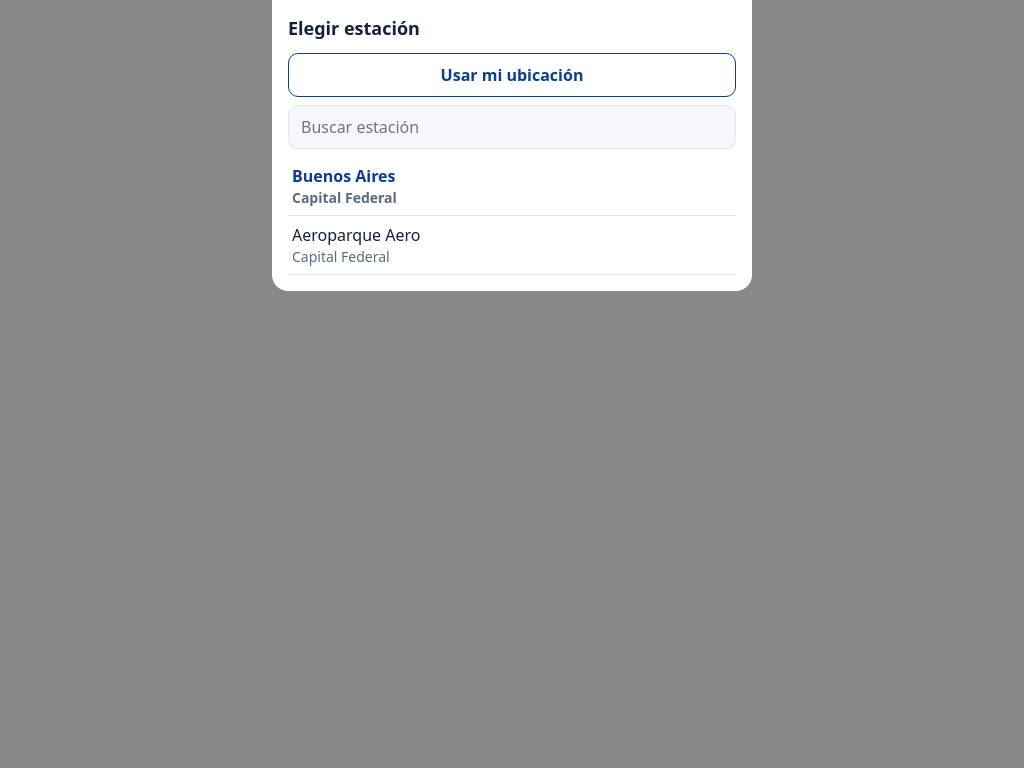
it: StationPicker: usar mi ubicación › permiso denegado: mensaje y la estación no cambia
The width and height of the screenshot is (1024, 768).
Click the button "Usar mi ubicación". click: (512, 75)
box: [288,53,736,97]
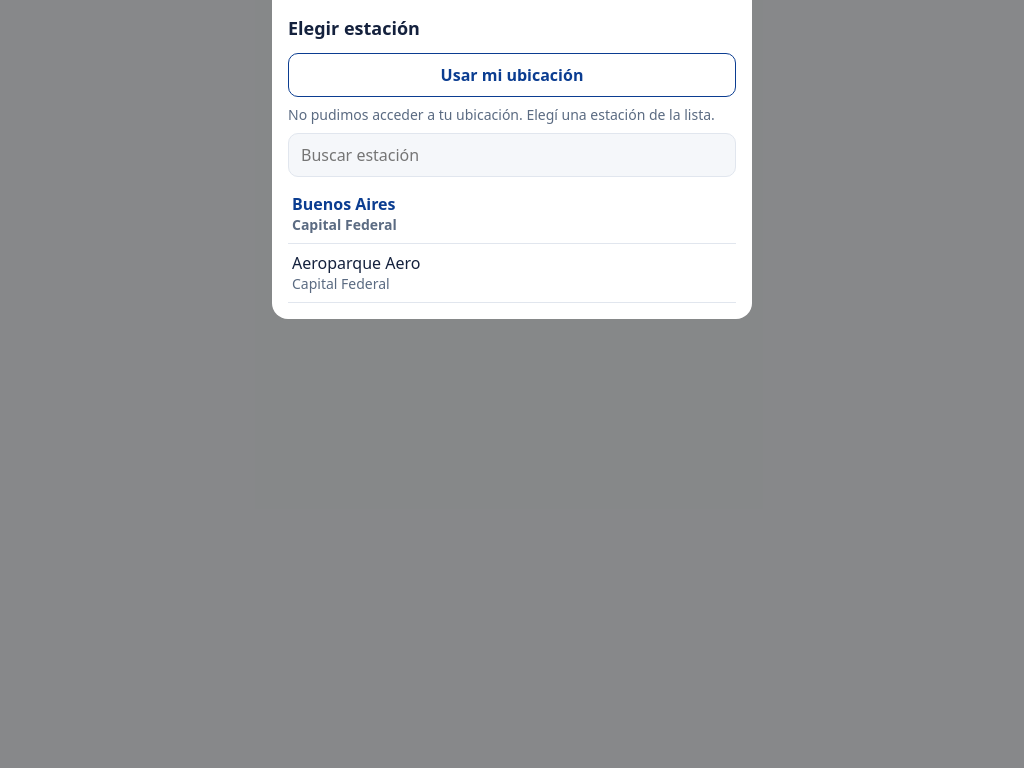
Result: the message reads "No pudimos acceder a tu ubicación. Elegí una estación de la lista." at [288,105,715,124]
